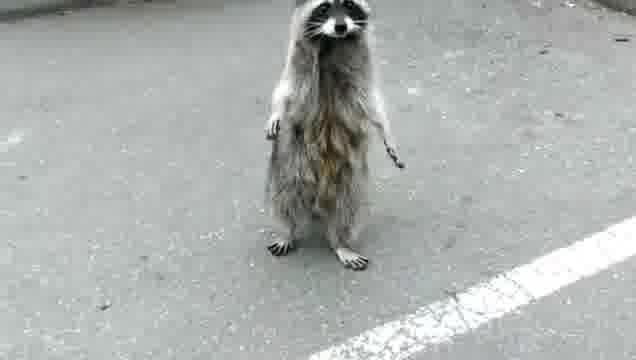raccoon: (266, 0, 407, 273)
